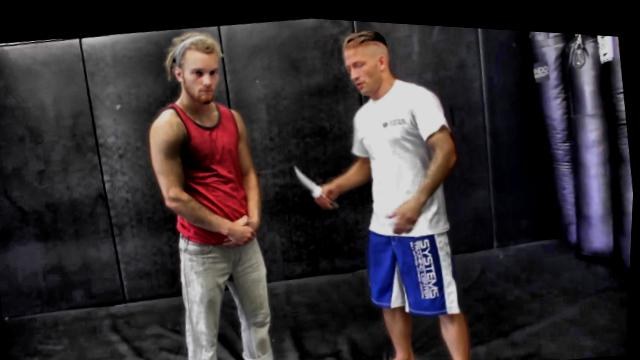knife: (288, 149, 345, 212)
